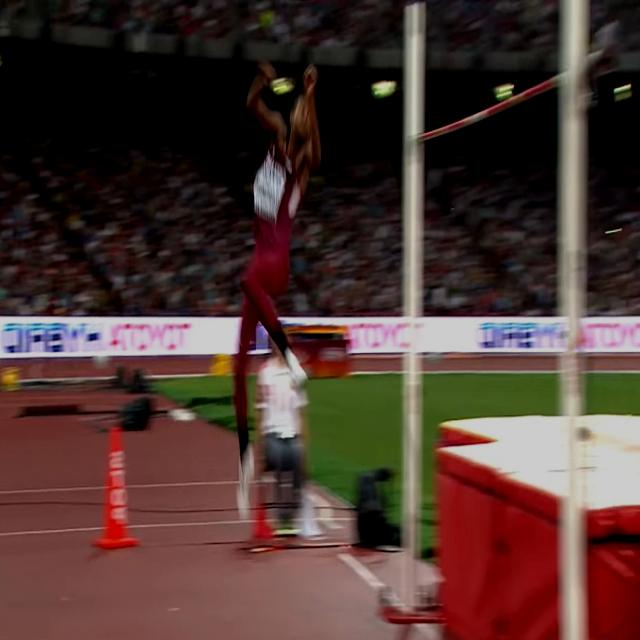jump: (235, 56, 322, 516)
